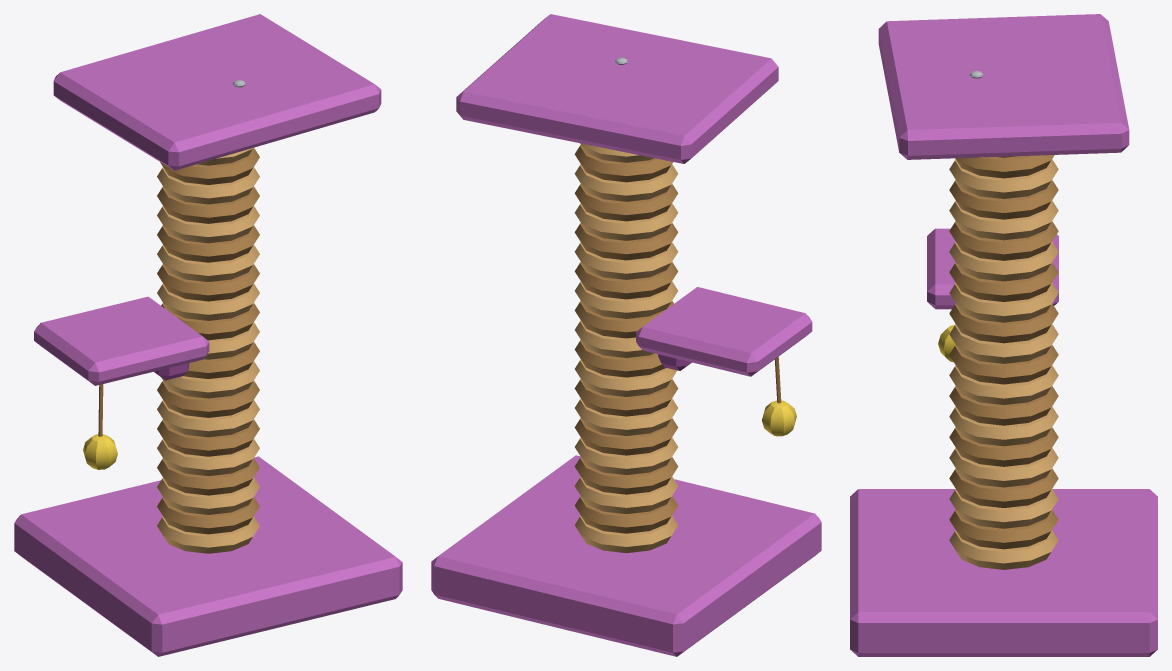
The model's file is zc_scratch_post_ruin.mobile-low.glb.
3 renders of one model, left to right at view 1: azimuth 30°, elevation 25°; view 2: azimuth 150°, elevation 25°; view 3: azimuth 270°, elevation 25°, orthographic. The views are drawn at different scales.
Parts seen in each view (by area): view 1: zc_scratch_post_ruin; view 2: zc_scratch_post_ruin; view 3: zc_scratch_post_ruin.
Boxes of the visible parts, x1,y1,x2,y2 form: zc_scratch_post_ruin: (14, 14, 402, 656); zc_scratch_post_ruin: (431, 14, 821, 656); zc_scratch_post_ruin: (850, 14, 1157, 656).
Bounding box in the file's own units: 0.6248 × 1.07 × 0.56.
1 material, 1 textured.
